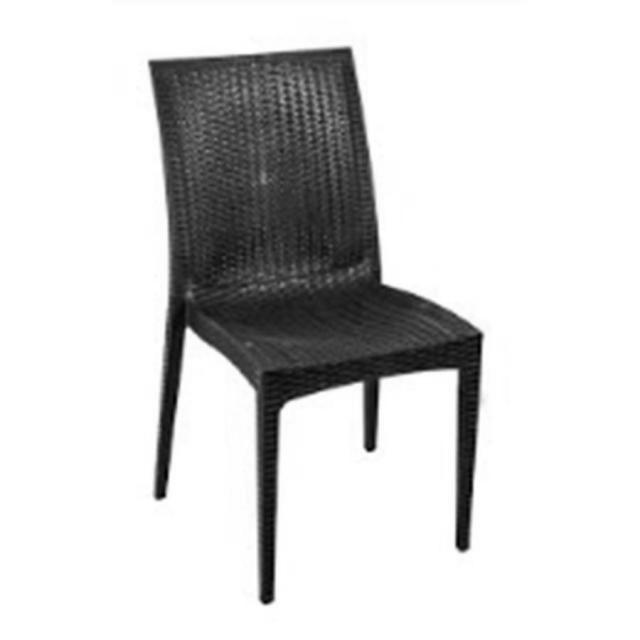chair: (148, 42, 478, 606)
